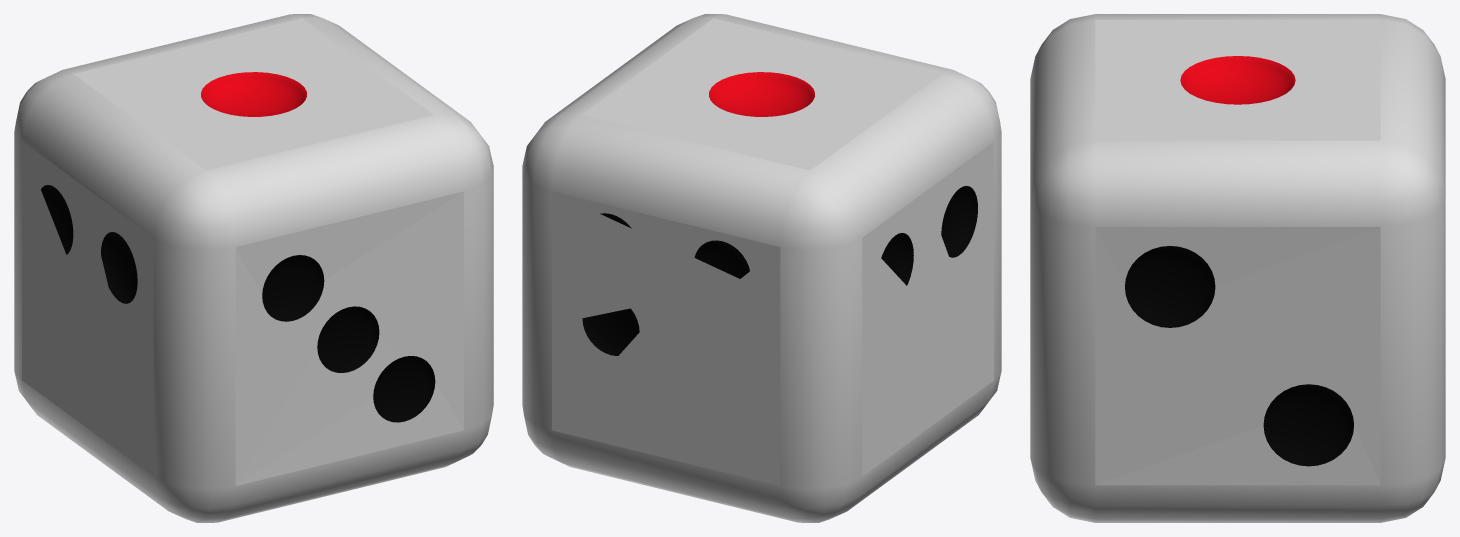
Rendered from Dice.fbx.
3 renders of one model, left to right at view 1: azimuth 30°, elevation 25°; view 2: azimuth 150°, elevation 25°; view 3: azimuth 270°, elevation 25°, orthographic. The views are drawn at different scales.
Parts seen in each view (by area): view 1: Dice; view 2: Dice; view 3: Dice.
Boxes of the visible parts, left/top/right/bottom form: Dice: left=14, top=14, right=493, bottom=522; Dice: left=522, top=14, right=1001, bottom=522; Dice: left=1030, top=14, right=1445, bottom=522.
Size of the model in its own units: 200 by 200 by 200.
